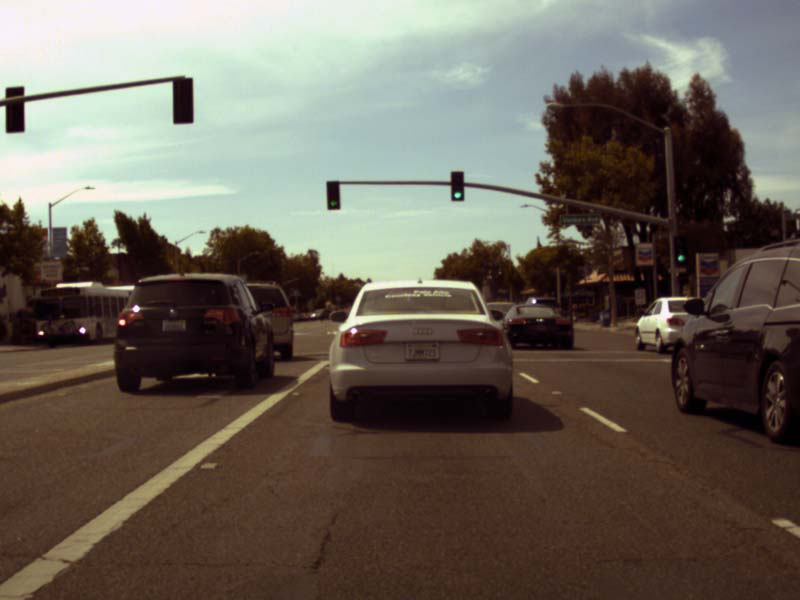Green: (326, 181, 340, 209), (450, 171, 463, 200), (674, 235, 687, 264)
